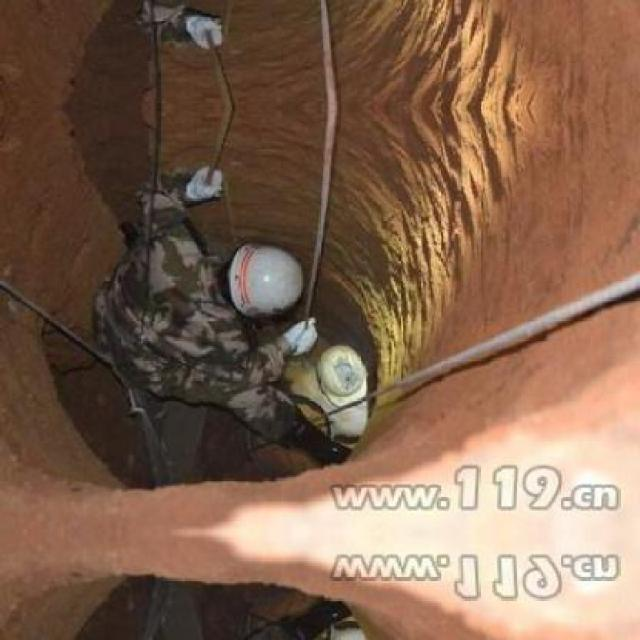helmet: (230, 238, 308, 318)
